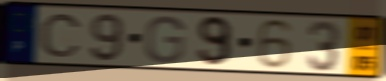3: (306, 18, 342, 74)
6: (255, 17, 296, 71)
9: (196, 14, 234, 69), (87, 12, 126, 63)
C: (38, 12, 84, 59)
G: (142, 14, 187, 65)
